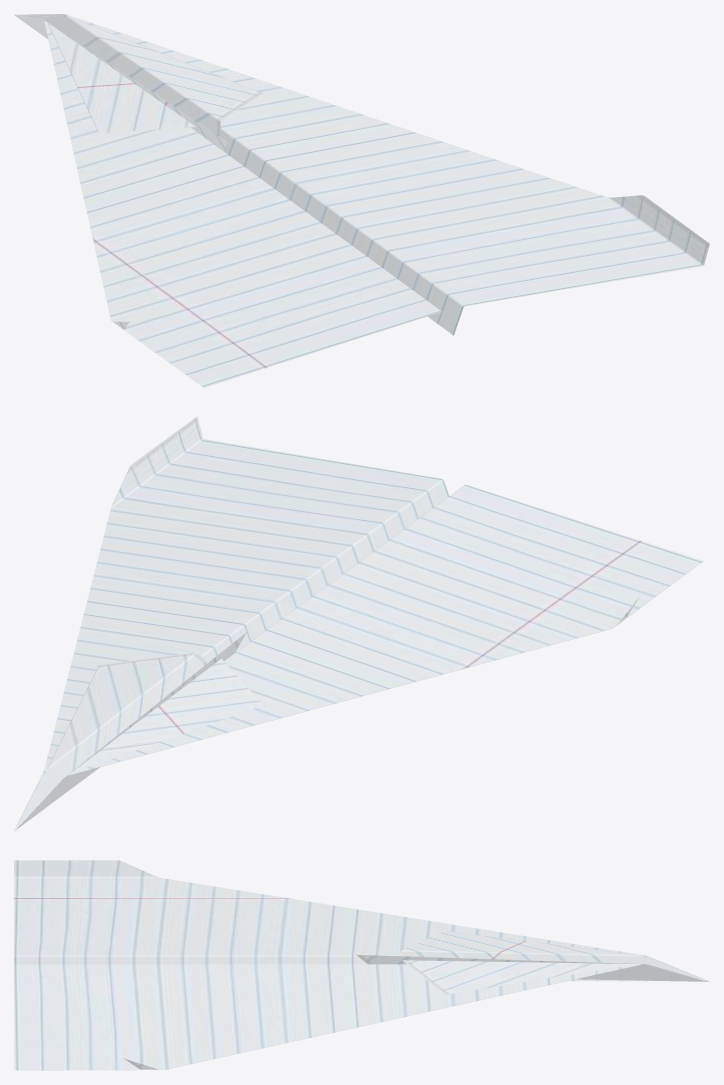
The picture shows the model from 3 angles, top to bottom: view 1: azimuth 30°, elevation 25°; view 2: azimuth 150°, elevation 25°; view 3: azimuth 270°, elevation 25°; orthographic projection. The views are drawn at different scales.
Parts seen in each view (by area): view 1: paper_plane_; view 2: paper_plane_; view 3: paper_plane_.
Boxes of the visible parts, left/top/right/bottom form: paper_plane_: left=14, top=14, right=709, bottom=387; paper_plane_: left=14, top=416, right=703, bottom=831; paper_plane_: left=14, top=860, right=709, bottom=1070.
Bounding box in the file's own units: 39.76 × 2.94 × 59.14.
1 material, 1 textured.
